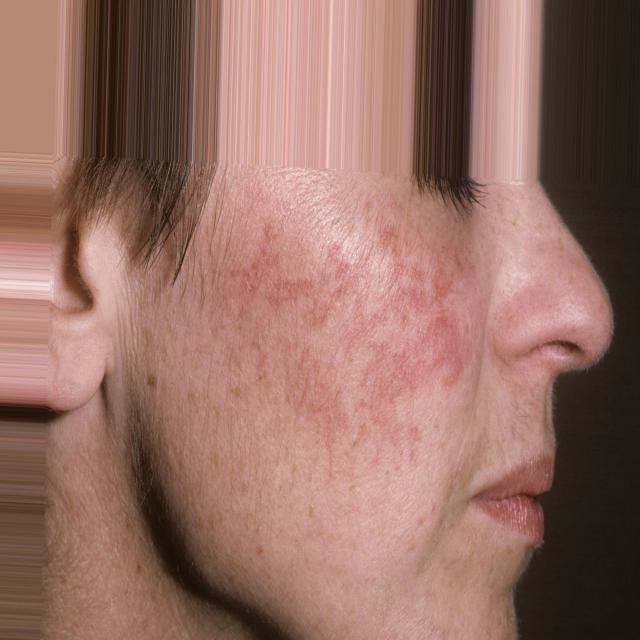Rosacea: (235, 213, 474, 452)
